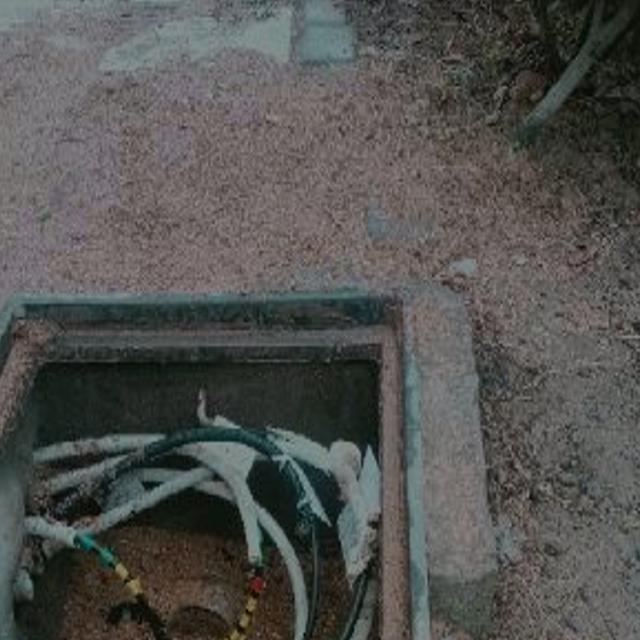lose: (0, 285, 429, 640)
